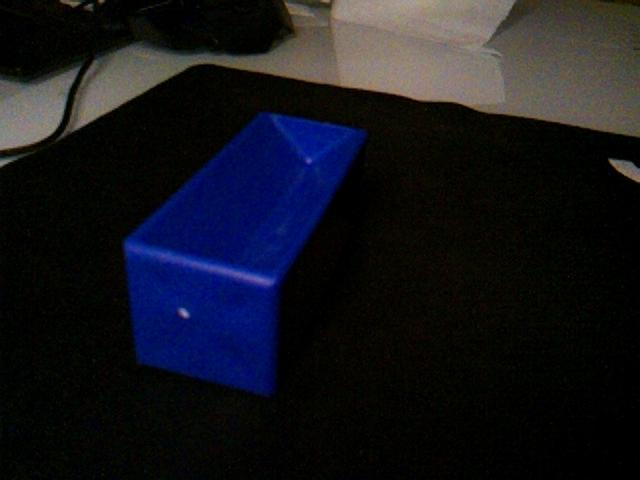blue: (121, 109, 370, 398)
